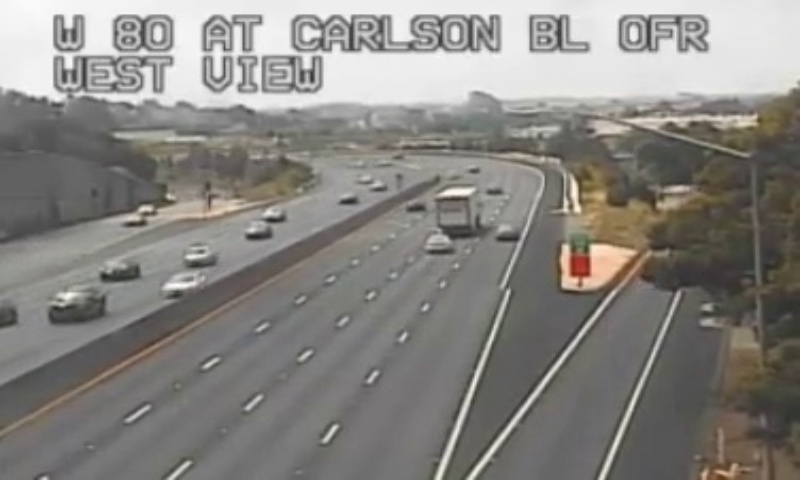car: (424, 234, 454, 252)
truck: (434, 185, 480, 236)
